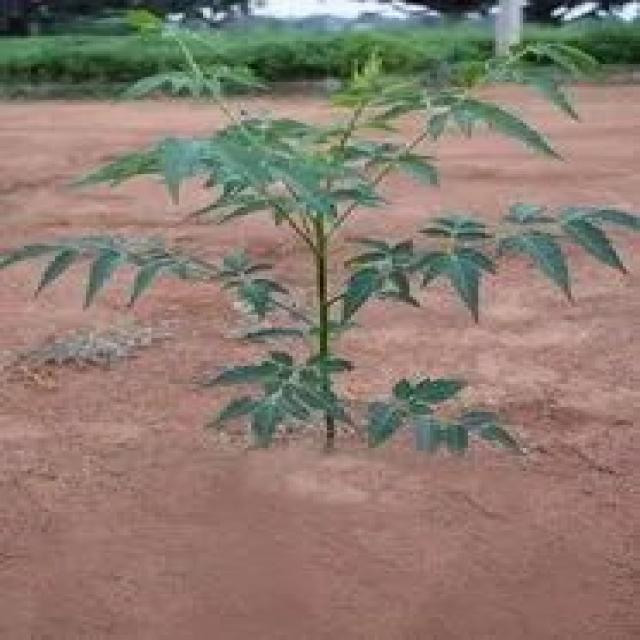Medicinal-Neem: (7, 211, 640, 478), (70, 77, 604, 209)
